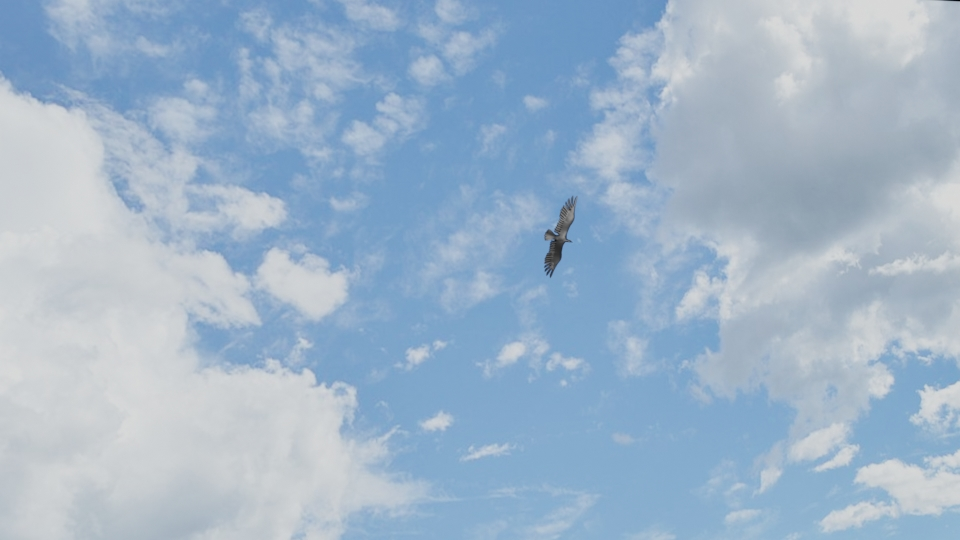bird: (542, 196, 582, 280)
